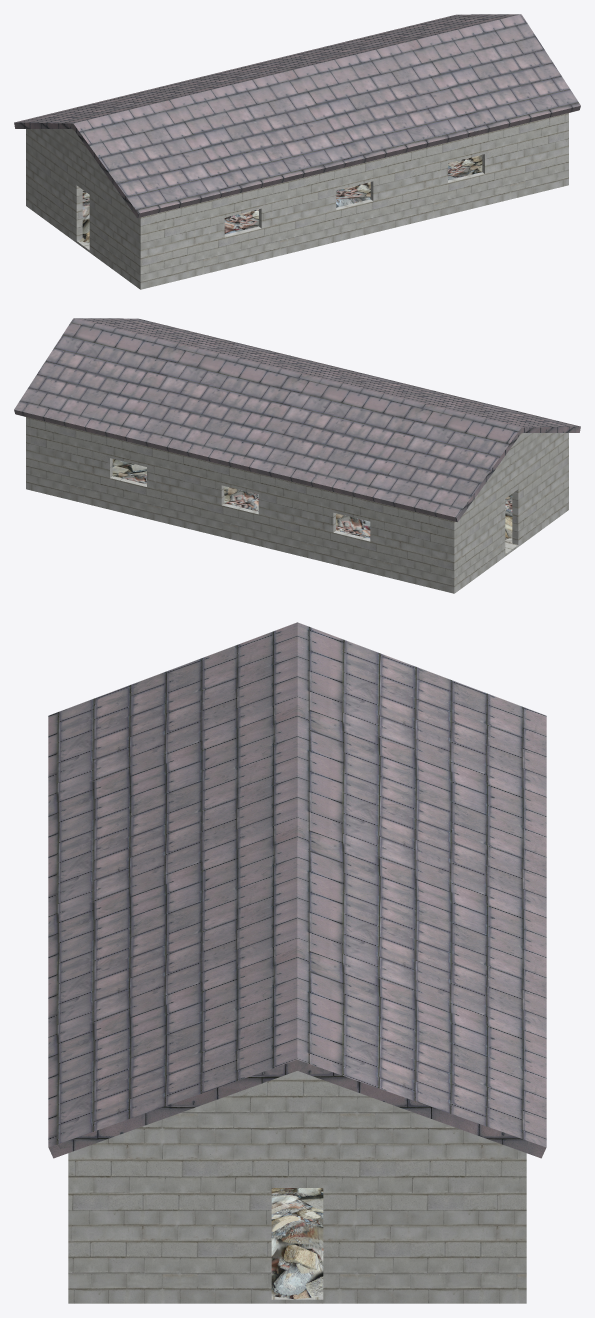
The model's file is MlitaryBarrack.fbx.
The picture shows the model from 3 angles, top to bottom: view 1: azimuth 30°, elevation 25°; view 2: azimuth 150°, elevation 25°; view 3: azimuth 270°, elevation 25°; orthographic projection. The views are drawn at different scales.
Parts seen in each view (by area): view 1: Undestroyed, Destroyed; view 2: Undestroyed, Destroyed; view 3: Undestroyed, Destroyed.
Part boxes in pixels (x1=…): Undestroyed: x1=14, y1=14, x2=580, y2=289; Destroyed: x1=26, y1=150, x2=568, y2=288; Undestroyed: x1=14, y1=318, x2=580, y2=593; Destroyed: x1=26, y1=445, x2=568, y2=592; Undestroyed: x1=48, y1=622, x2=546, y2=1303; Destroyed: x1=68, y1=1188, x2=526, y2=1303.
Bounding box in the file's own units: 8.6 × 17.88 × 4.88.
